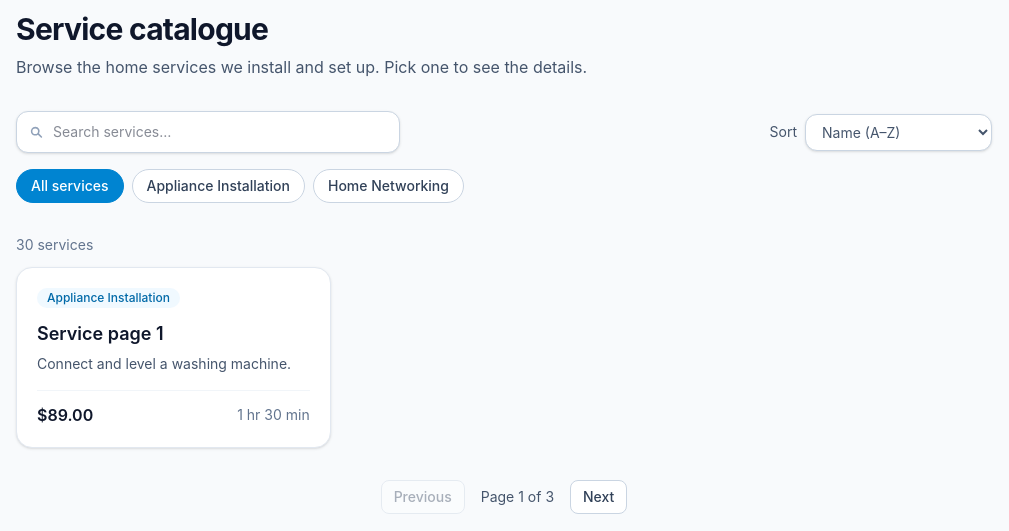
Scenario: CataloguePage › paginates to the next page
Expected: the heading "Service page 1" is shown, [37,323,164,344]
What coordinates should you click on to do the following:
click the button "Next"
I would click on:
 (599, 497)
Its box is [570,480,627,514].
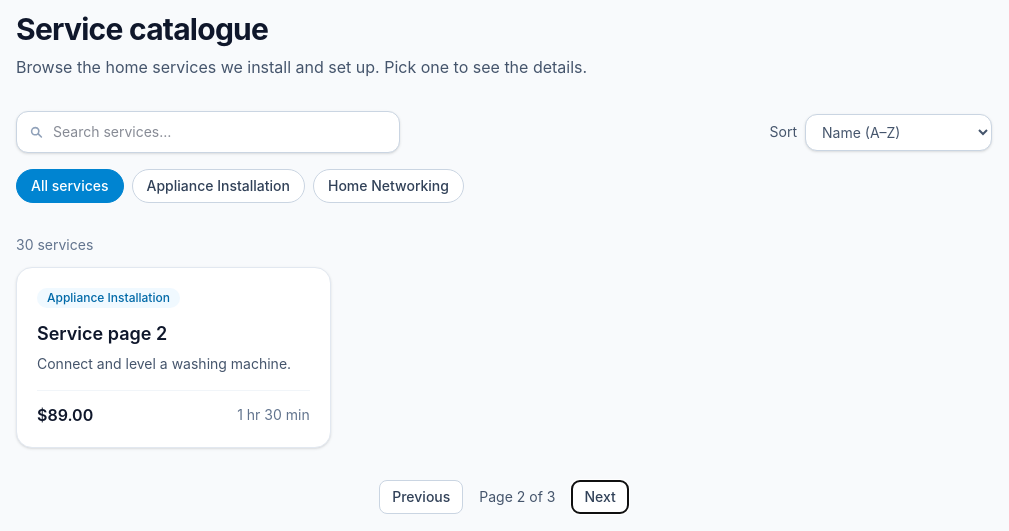
Now the heading "Service page 2" is shown, box [37,323,167,344]
